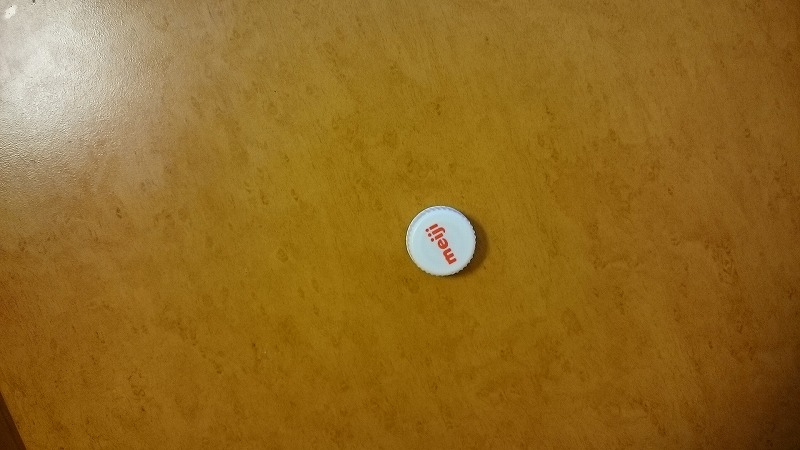B: (403, 201, 483, 283)
